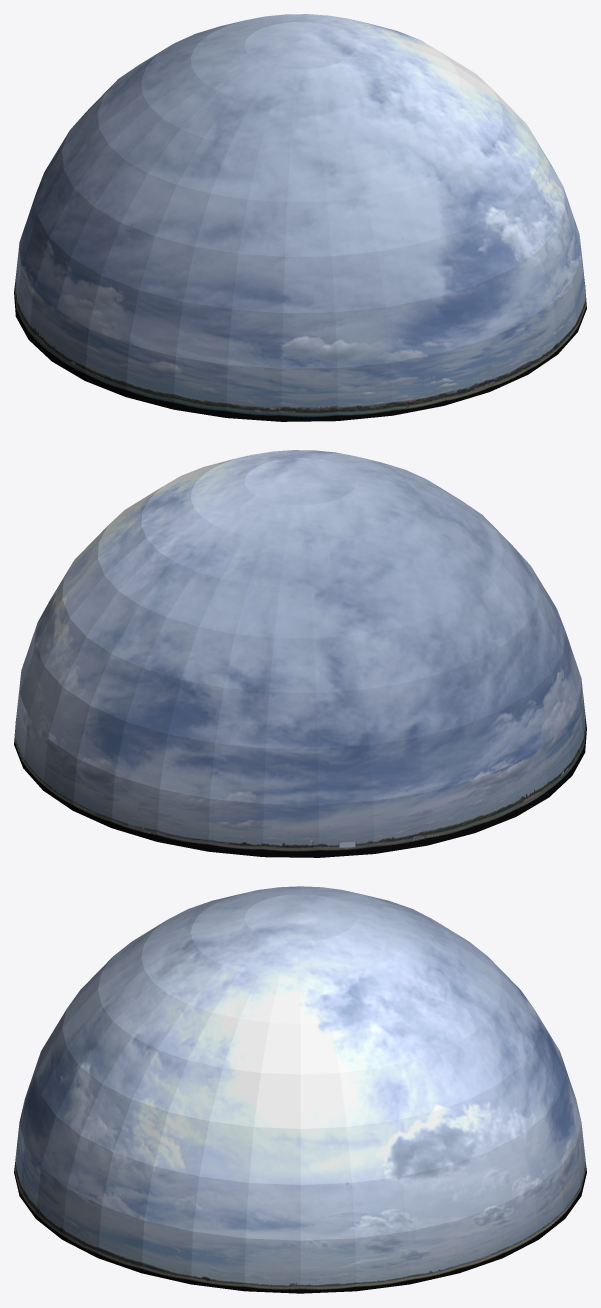
The model's file is skydome.obj.
3 renders of one model, top to bottom at view 1: azimuth 30°, elevation 25°; view 2: azimuth 150°, elevation 25°; view 3: azimuth 270°, elevation 25°, orthographic.
Visible parts, largest first — view 1: skydome; view 2: skydome; view 3: skydome.
Part boxes in pixels (left/top/right/bottom): skydome: left=14, top=14, right=586, bottom=421; skydome: left=14, top=450, right=586, bottom=857; skydome: left=14, top=886, right=586, bottom=1293.
Bounding box in the file's own units: 20 × 10 × 20.
